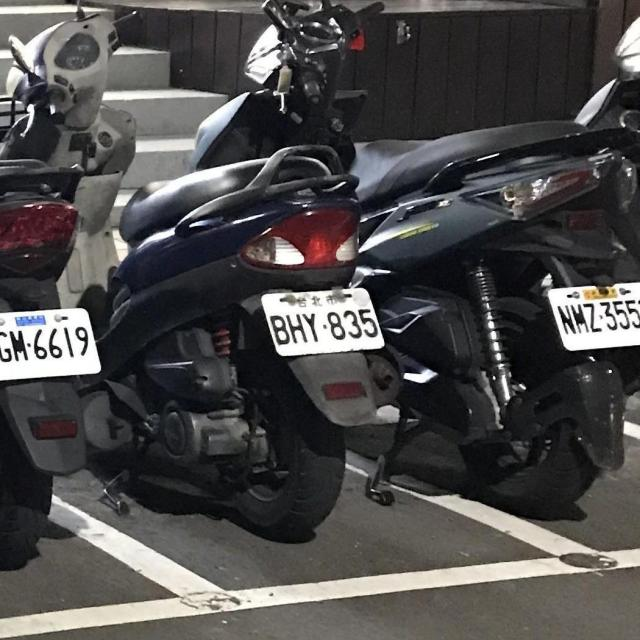W: (258, 278, 388, 364), (0, 294, 107, 390), (544, 270, 640, 354)
